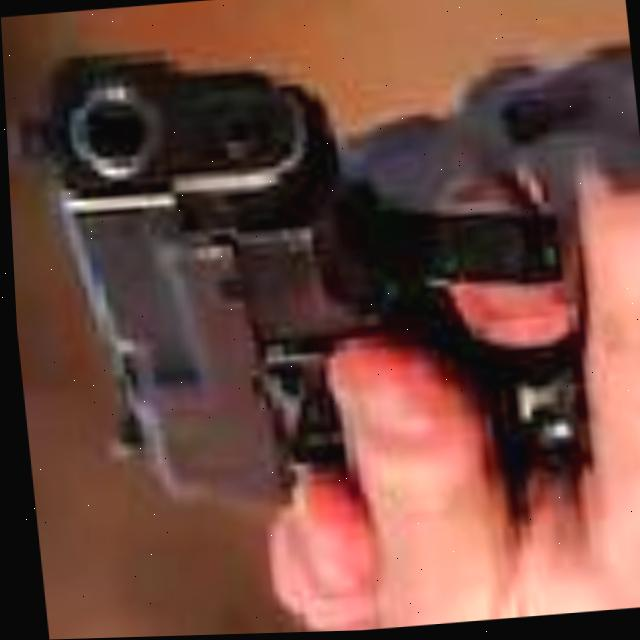pistol: (1, 0, 640, 571)
